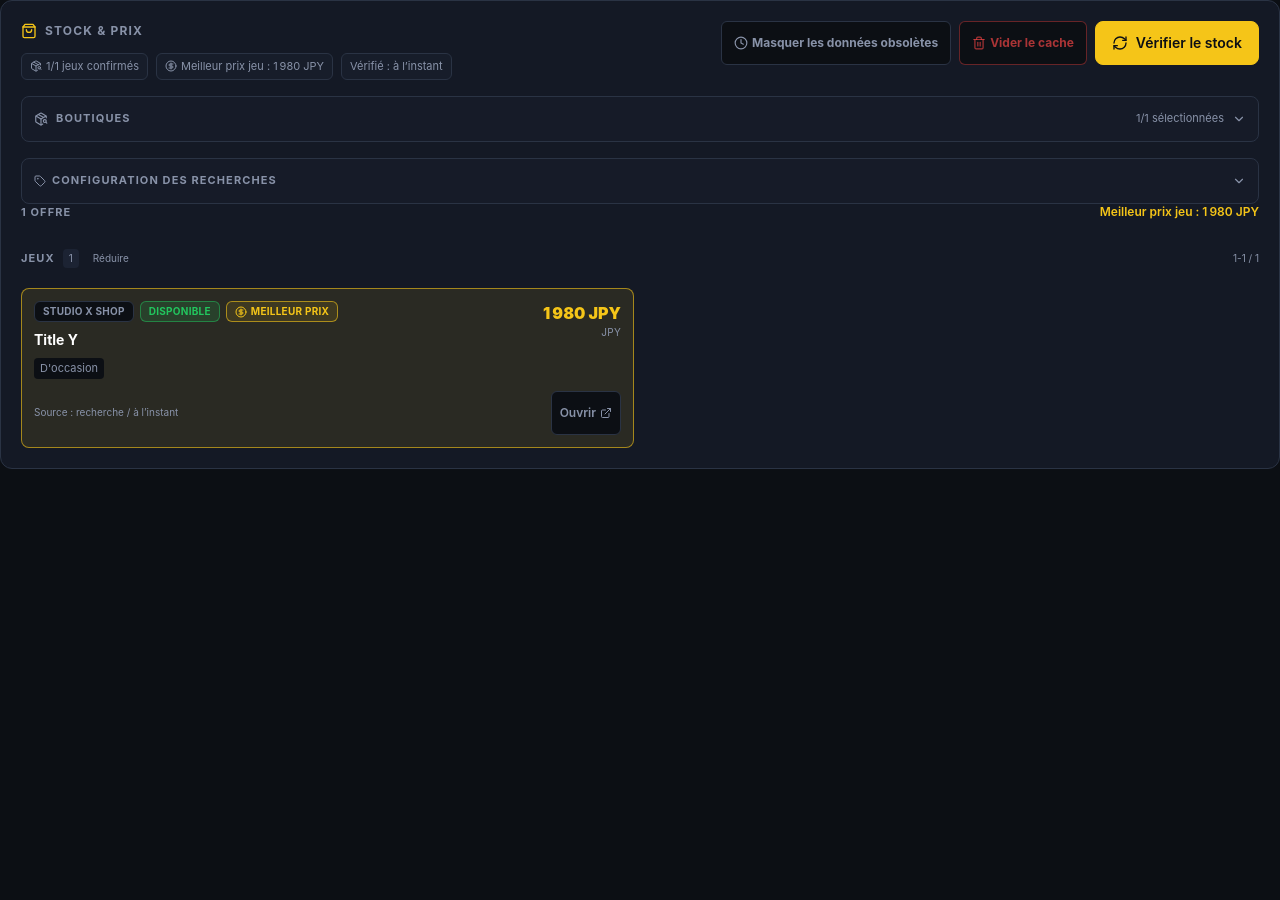
Test: StockPanel branches › surfaces a malformed single-provider refresh response
Click the text "Boutiques".
click(93, 118)  # box [56,111,131,125]
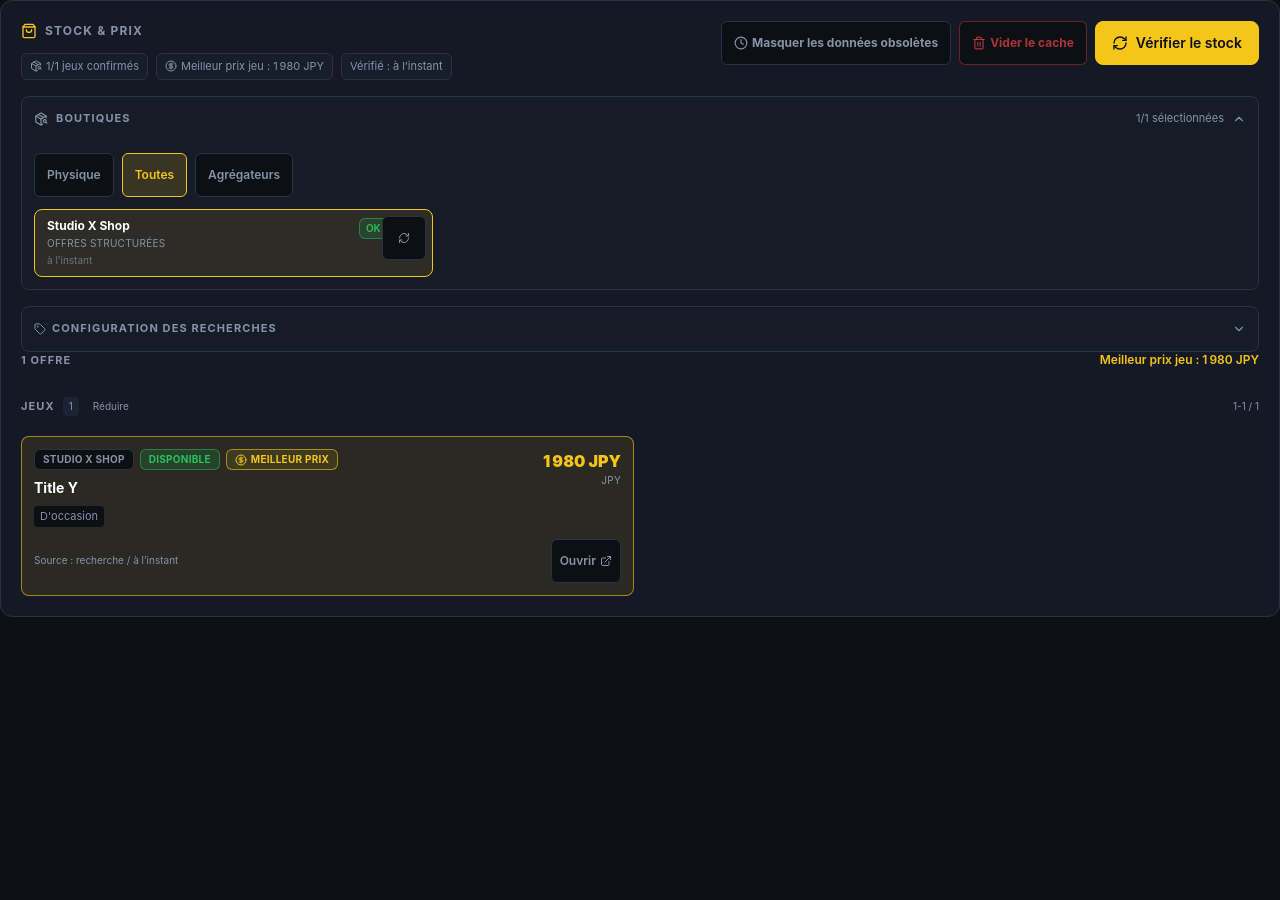
Click the button named "Rafraîchir uniquement Studio X Shop".
click(404, 238)  # box [382,216,426,260]
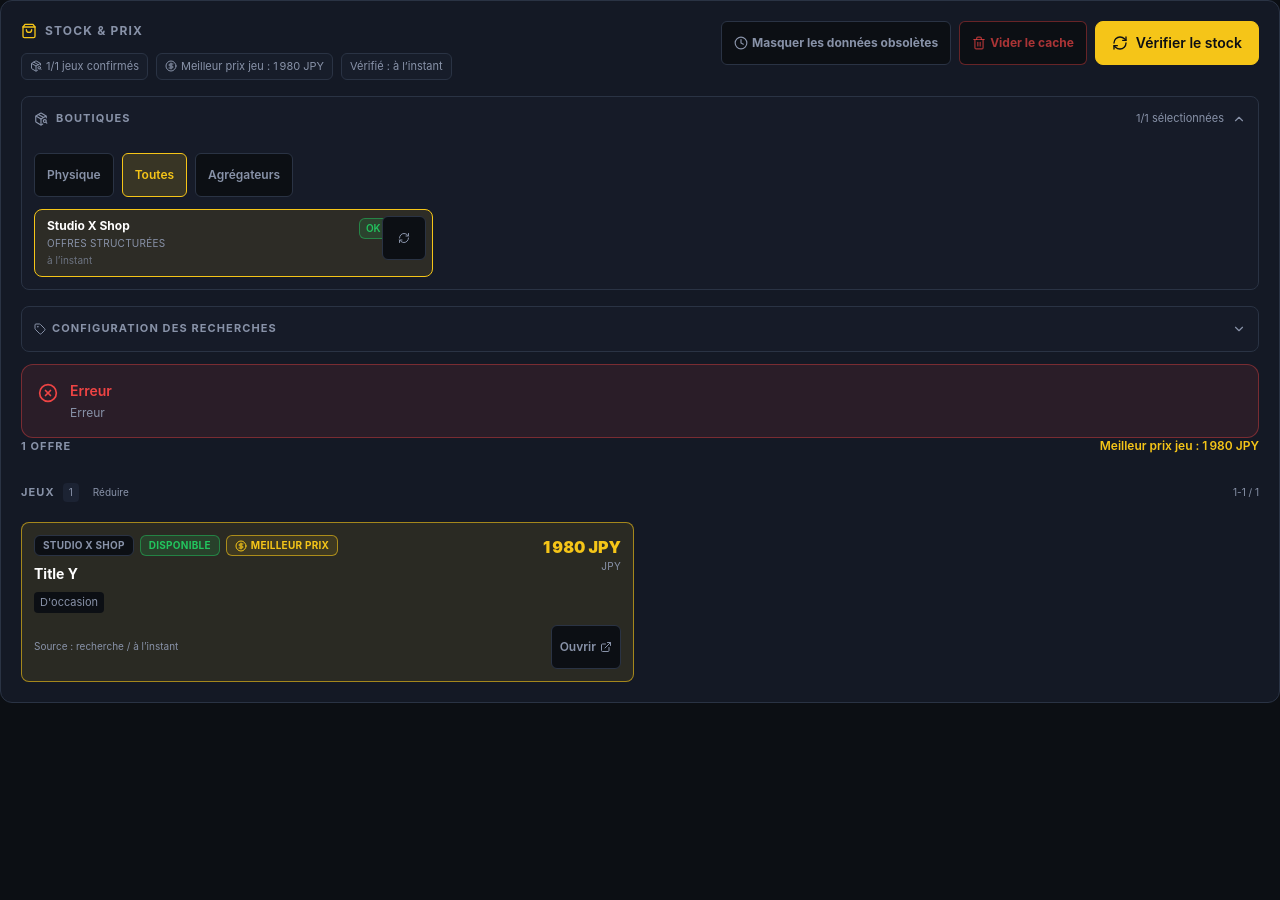
Now the message "Erreur Erreur" is shown, box [21,364,1259,438]
